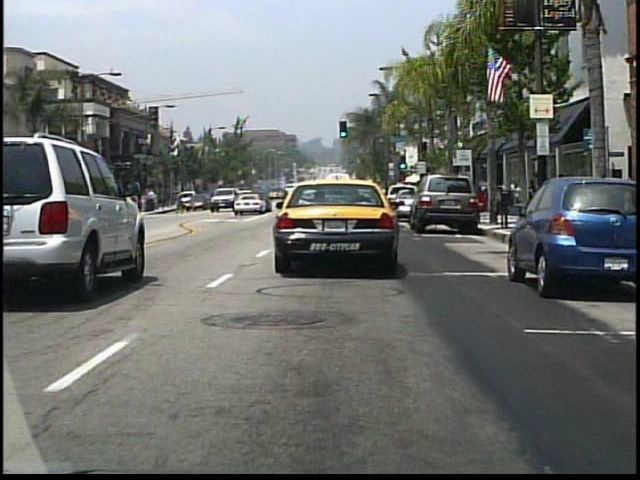person: (525, 177, 541, 219), (175, 189, 185, 215)
